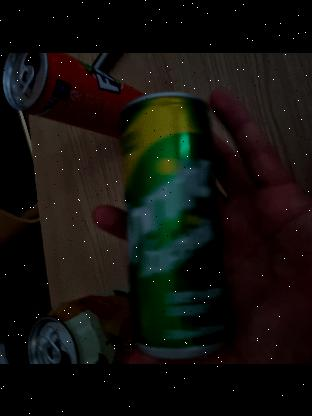Can: (125, 90, 222, 354)
